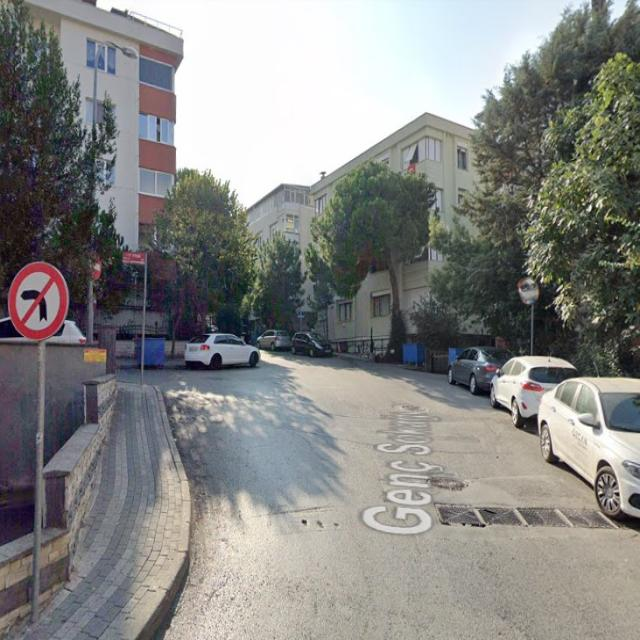girisyok: (88, 253, 101, 280)
soladonulmez: (8, 262, 69, 341)
